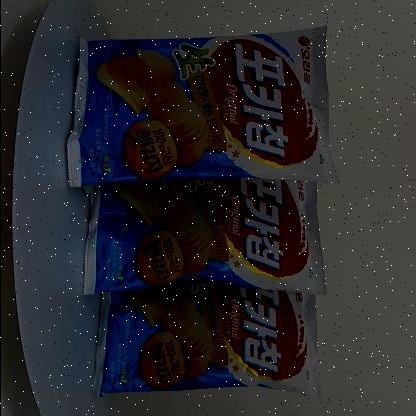Others: (60, 22, 348, 406)
